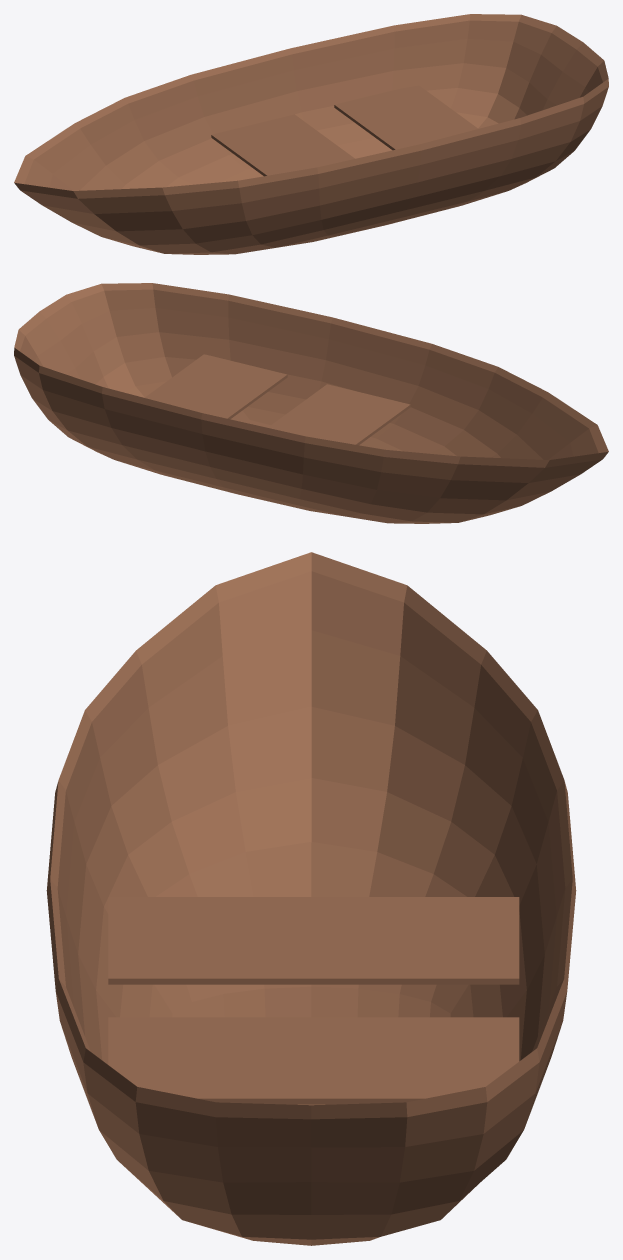
The model's file is tr_boat_v2.fbx.
3 renders of one model, top to bottom at view 1: azimuth 30°, elevation 25°; view 2: azimuth 150°, elevation 25°; view 3: azimuth 270°, elevation 25°, orthographic. The views are drawn at different scales.
Visible parts, largest first — view 1: Sphere, Plane; view 2: Sphere, Plane; view 3: Sphere, Plane.
Part boxes in pixels (left/top/right/bottom): Sphere: left=14, top=14, right=608, bottom=254; Plane: left=211, top=85, right=478, bottom=176; Sphere: left=14, top=283, right=608, bottom=523; Plane: left=144, top=354, right=410, bottom=445; Sphere: left=46, top=552, right=576, bottom=1245; Plane: left=108, top=897, right=519, bottom=1104.
Bounding box in the file's own units: 311 × 61.03 × 125.
